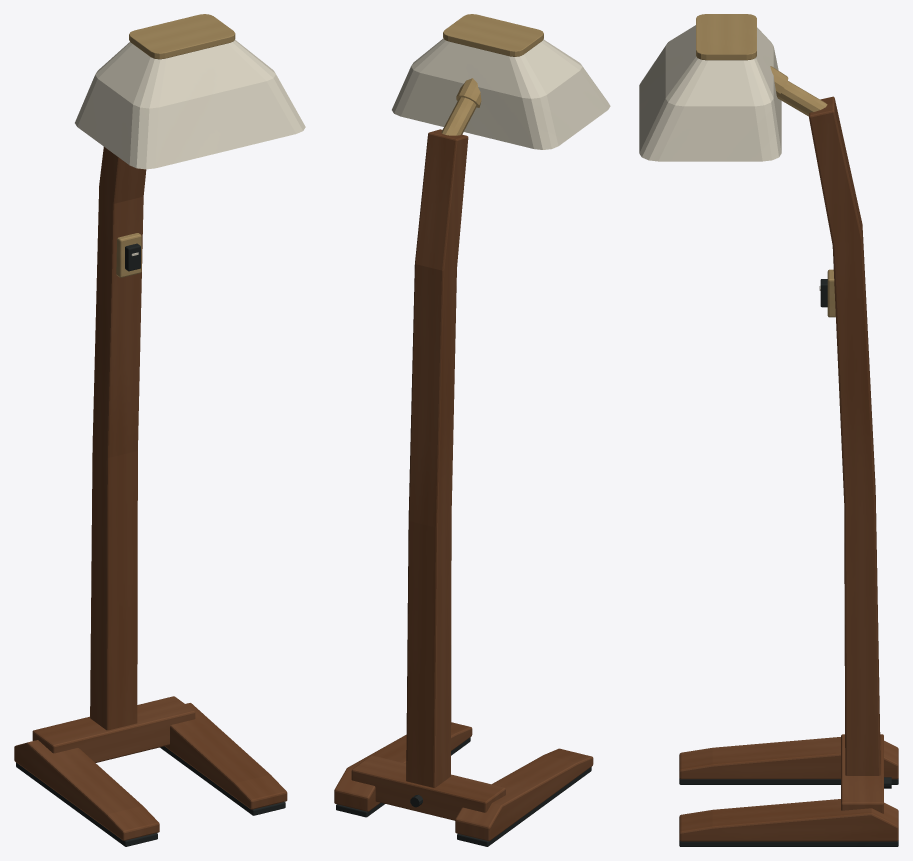
The model's file is AST-GST-001.glb.
3 views of the same model, side by side, from view 1: azimuth 30°, elevation 25°; view 2: azimuth 150°, elevation 25°; view 3: azimuth 270°, elevation 25° (orthographic). The views are drawn at different scales.
Visible parts, largest first — view 1: AST-GST-001__warm_walnut, AST-GST-001__ivory_enamel, AST-GST-001__champagne_metal, AST-GST-001__dark_rubber; view 2: AST-GST-001__warm_walnut, AST-GST-001__ivory_enamel, AST-GST-001__champagne_metal, AST-GST-001__dark_rubber; view 3: AST-GST-001__warm_walnut, AST-GST-001__ivory_enamel, AST-GST-001__champagne_metal, AST-GST-001__dark_rubber.
Boxes of the visible parts, <box> form: AST-GST-001__warm_walnut: <box>14,147,287,840</box>; AST-GST-001__ivory_enamel: <box>75,40,305,256</box>; AST-GST-001__champagne_metal: <box>116,14,235,277</box>; AST-GST-001__dark_rubber: <box>16,243,285,846</box>; AST-GST-001__warm_walnut: <box>334,129,593,841</box>; AST-GST-001__ivory_enamel: <box>392,38,610,149</box>; AST-GST-001__champagne_metal: <box>441,14,543,135</box>; AST-GST-001__dark_rubber: <box>336,737,591,846</box>; AST-GST-001__warm_walnut: <box>679,96,898,841</box>; AST-GST-001__ivory_enamel: <box>639,25,820,290</box>; AST-GST-001__champagne_metal: <box>696,14,835,317</box>; AST-GST-001__dark_rubber: <box>679,279,898,846</box>.
Bounding box in the file's own units: 0.348 × 1.49 × 0.452.
5 materials, 5 textured.
